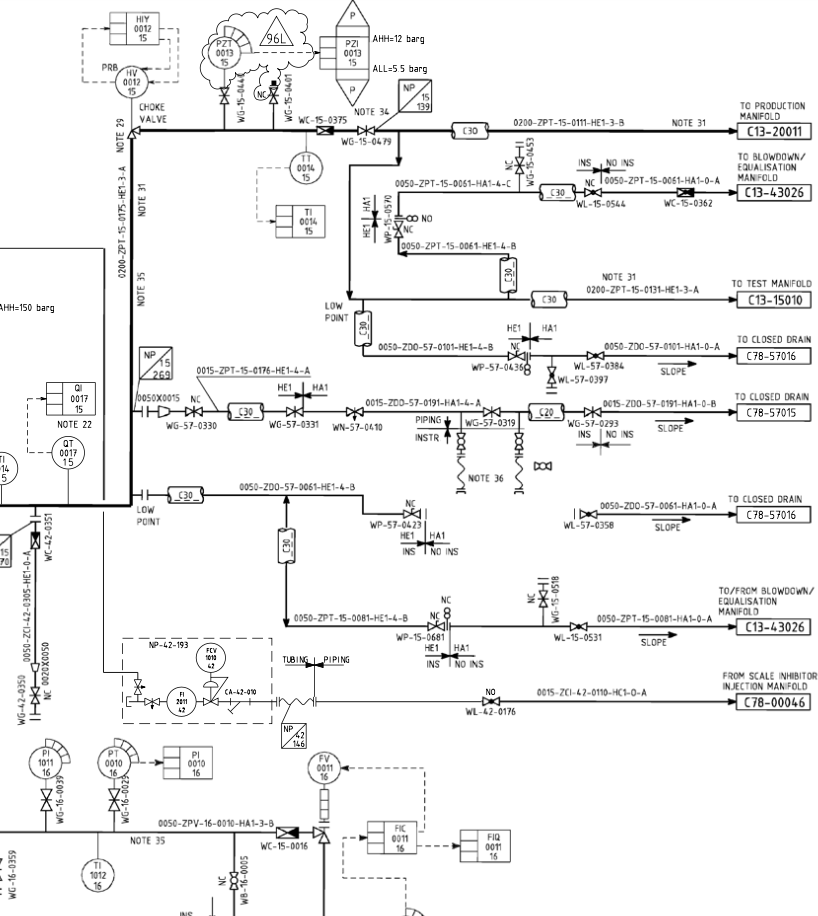Instrument: (205, 32, 243, 73), (78, 855, 117, 894), (286, 149, 325, 187), (112, 64, 151, 100), (95, 744, 132, 781), (192, 640, 230, 674), (28, 745, 64, 780), (164, 684, 198, 721)
Instrument-square: (176, 741, 216, 785), (380, 817, 421, 857), (290, 200, 329, 242), (121, 9, 162, 48), (58, 379, 98, 418), (475, 826, 513, 867), (332, 35, 372, 72)
